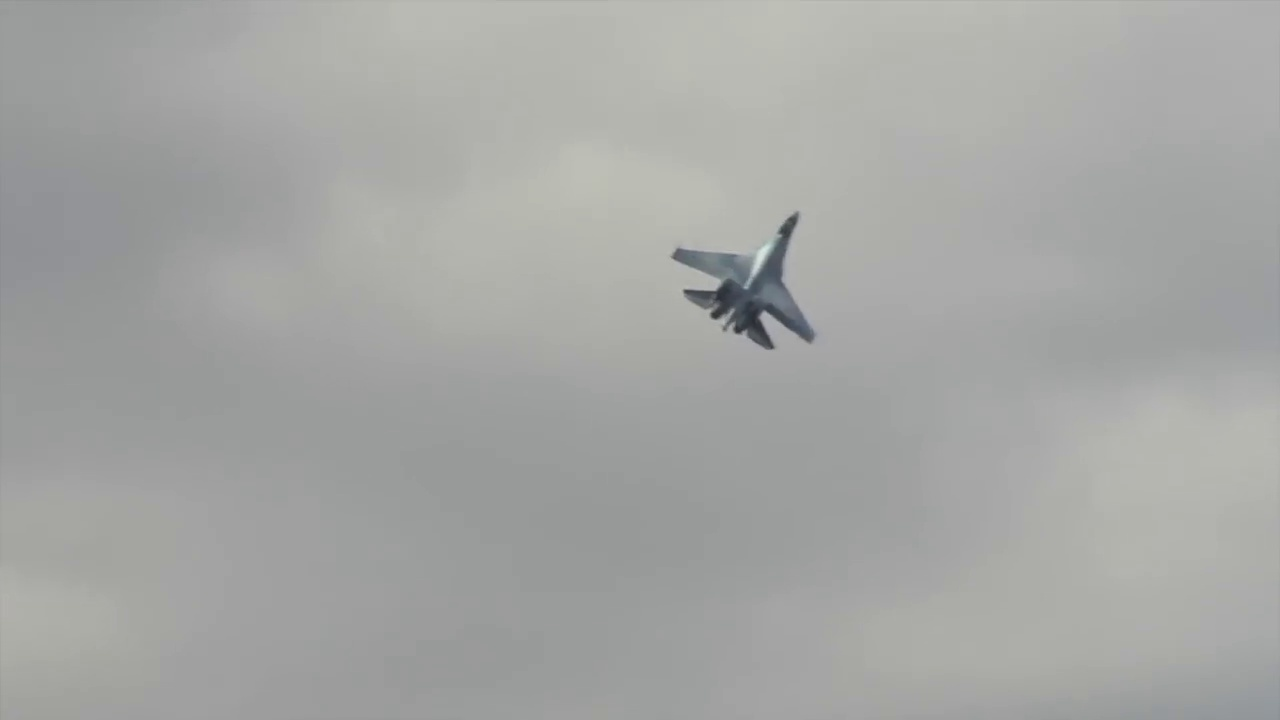Su35: (661, 198, 831, 360)
